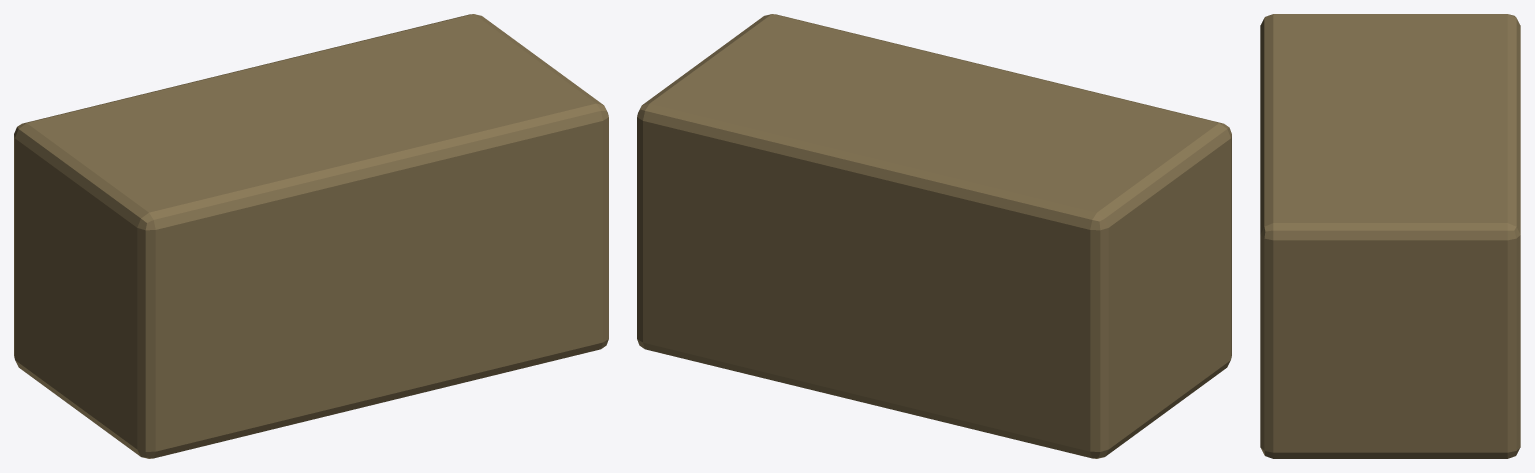
Rendered from SM_Platform_1m_02_B.fbx.
The picture shows the model from 3 angles, left to right: view 1: azimuth 30°, elevation 25°; view 2: azimuth 150°, elevation 25°; view 3: azimuth 270°, elevation 25°; orthographic projection. The views are drawn at different scales.
Parts seen in each view (by area): view 1: polySurface78; view 2: polySurface78; view 3: polySurface78.
Boxes of the visible parts, left/top/right/bottom form: polySurface78: left=14, top=14, right=608, bottom=458; polySurface78: left=637, top=14, right=1231, bottom=458; polySurface78: left=1260, top=14, right=1520, bottom=458.
Size of the model in its own units: 200 by 100 by 100.
